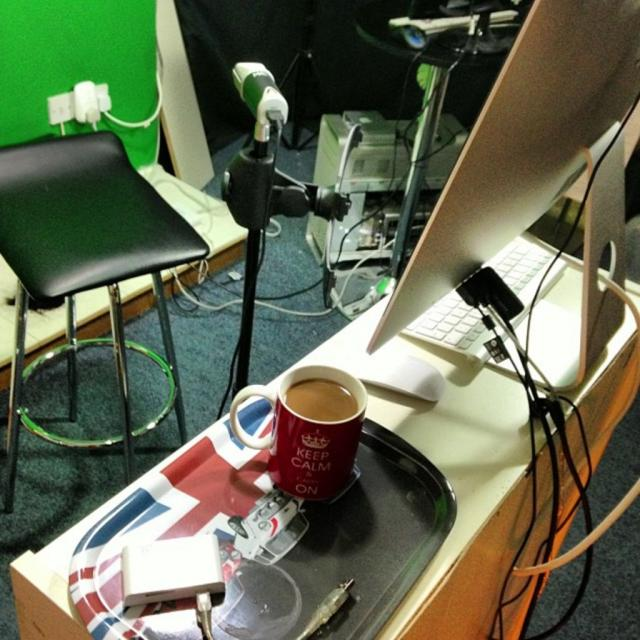Tea: (279, 374, 359, 422)
